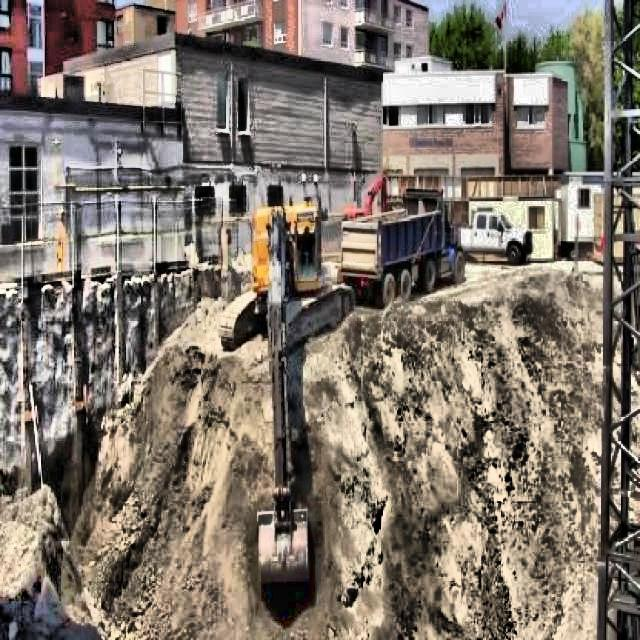dump_truck: (340, 186, 465, 303)
excavator: (217, 184, 354, 596)
